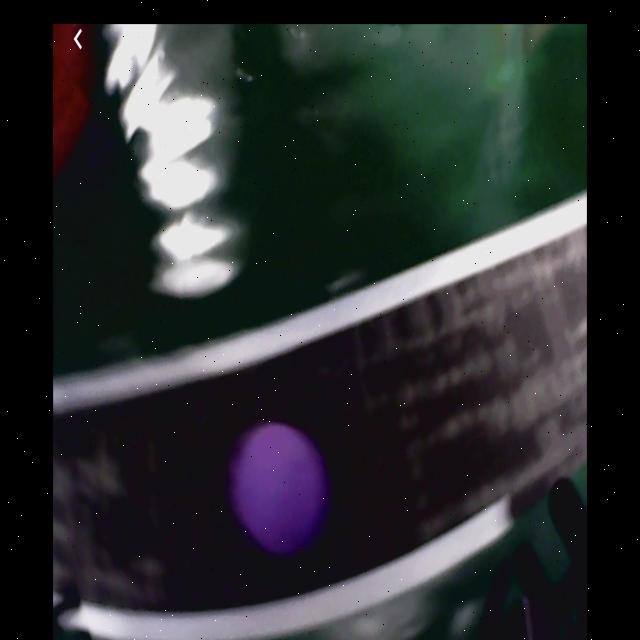ball: (230, 421, 326, 551)
